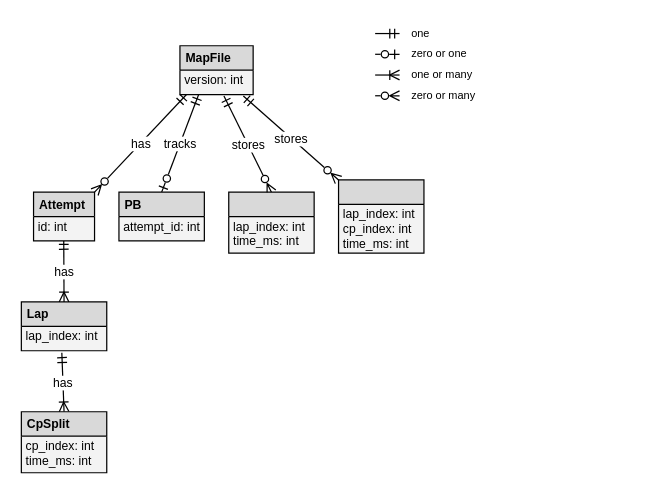
Image size: 669x494. Some labels were removed from this diagram. The box of each missing label's shape, as (x1, y1, x2, y2) in pixels:
CpBest: (337, 179, 424, 253)
LapBest: (228, 191, 314, 253)
